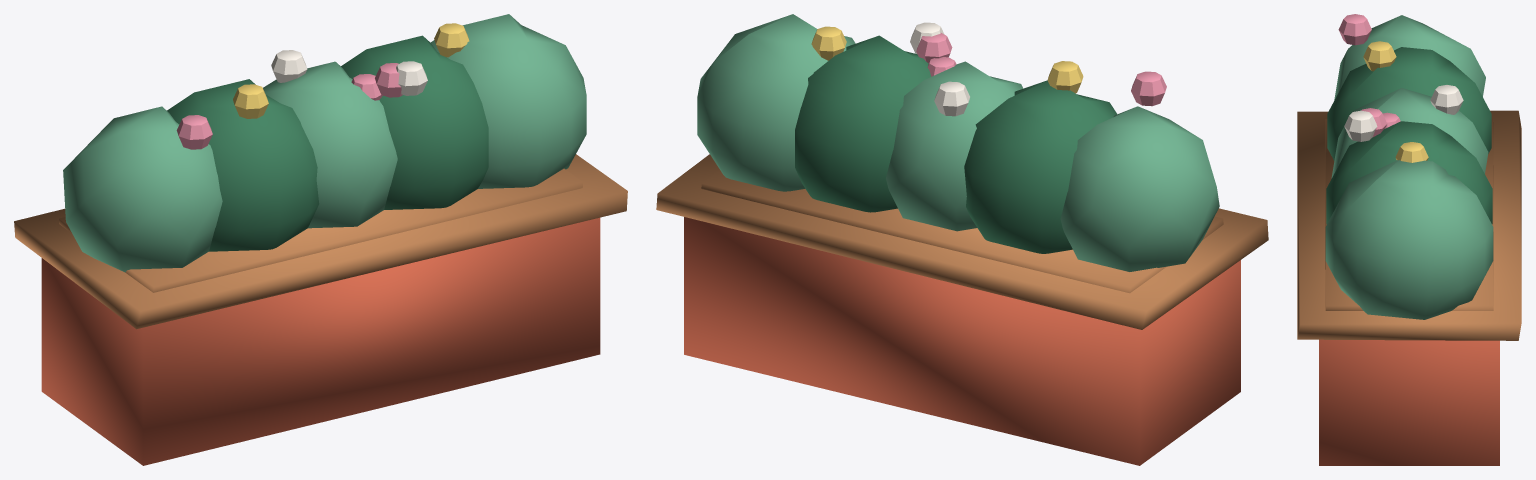
The model's file is planter.glb.
3 renders of one model, left to right at view 1: azimuth 30°, elevation 25°; view 2: azimuth 150°, elevation 25°; view 3: azimuth 270°, elevation 25°, orthographic. The views are drawn at different scales.
Visible parts, largest first — view 1: planter; view 2: planter; view 3: planter.
Part boxes in pixels (box(x1,y1,x2,y2)): planter: box(14, 14, 627, 465); planter: box(656, 14, 1268, 465); planter: box(1297, 14, 1521, 465).
Bounding box in the file's own units: 1.38 × 0.8402 × 0.6042.
1 material, 1 textured.
